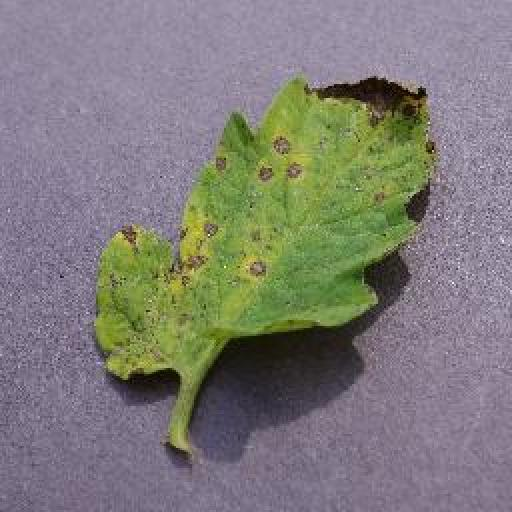Septoria: (91, 69, 436, 380)
